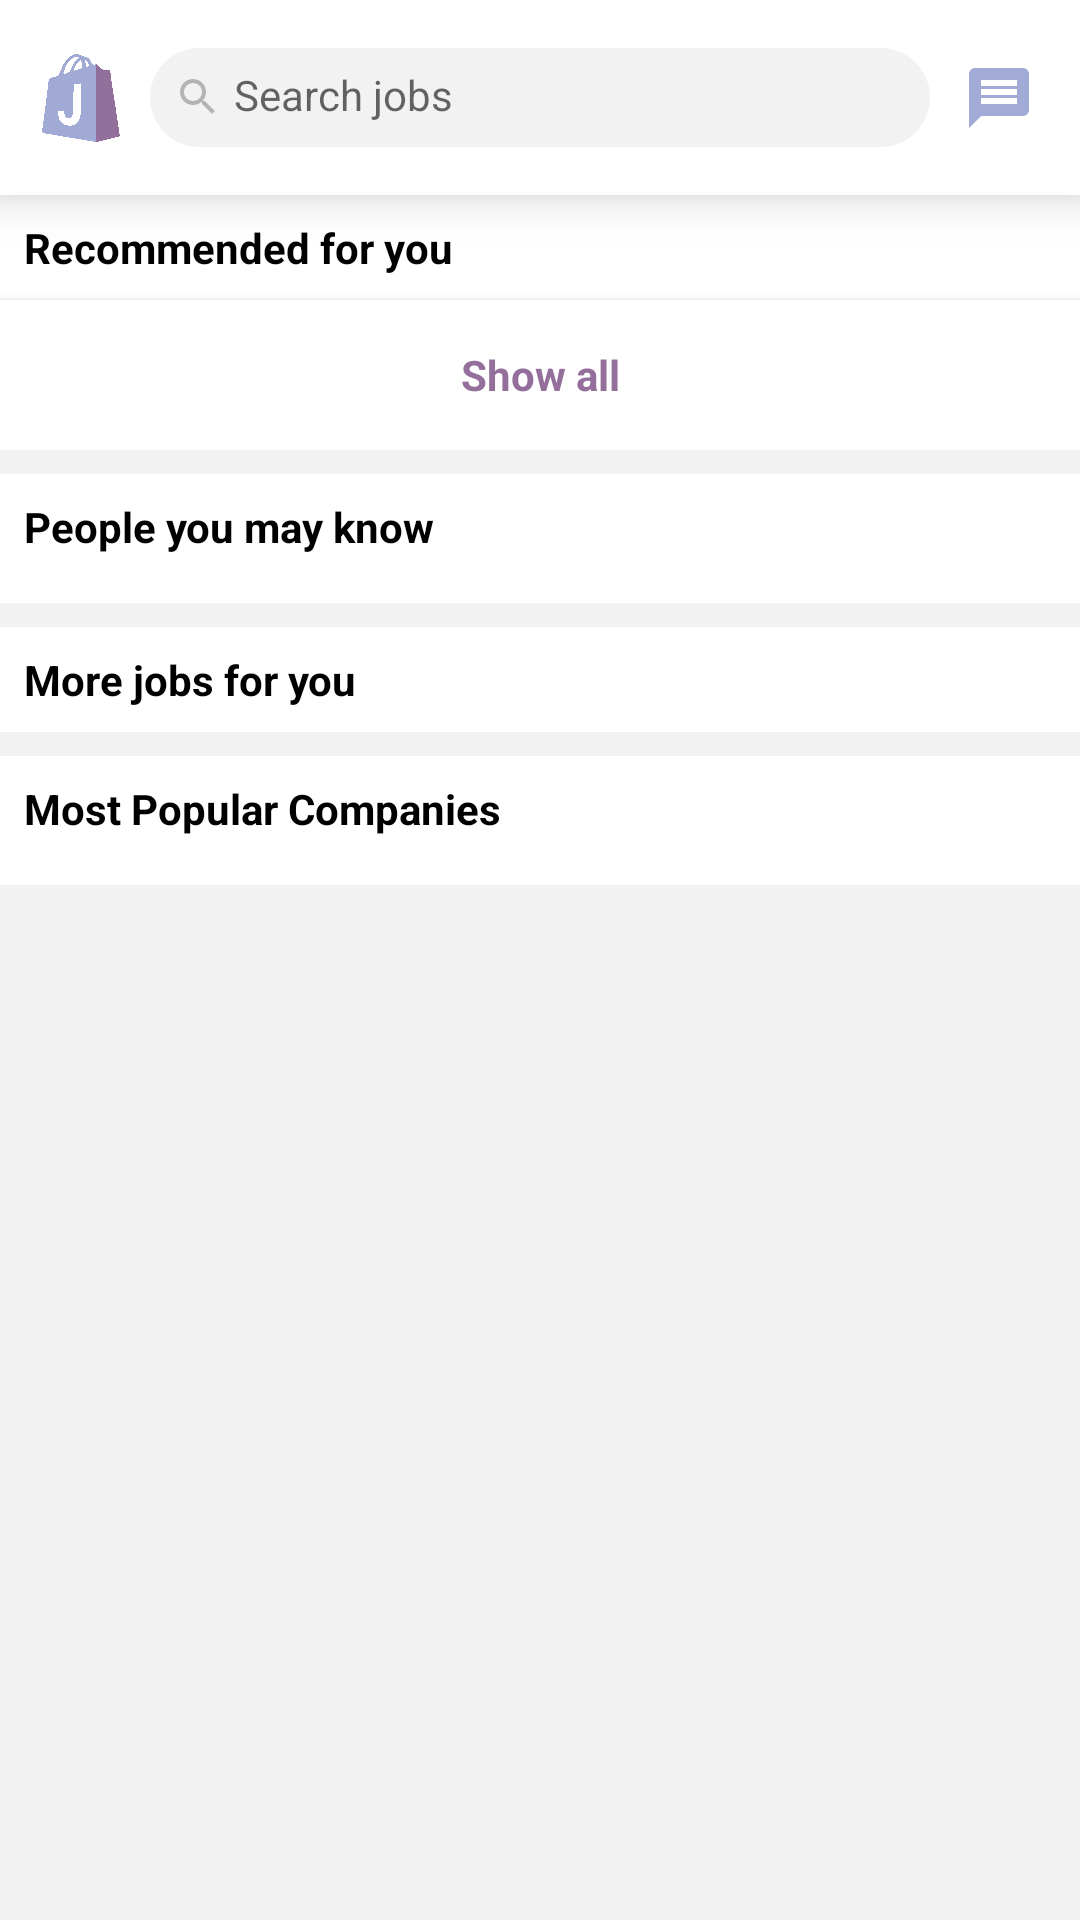

Locate icon controls on the screen. Image size 1080 x 1920, boxes as box=[x1, y1, x2, y2].
message: box=[969, 68, 1029, 128]
